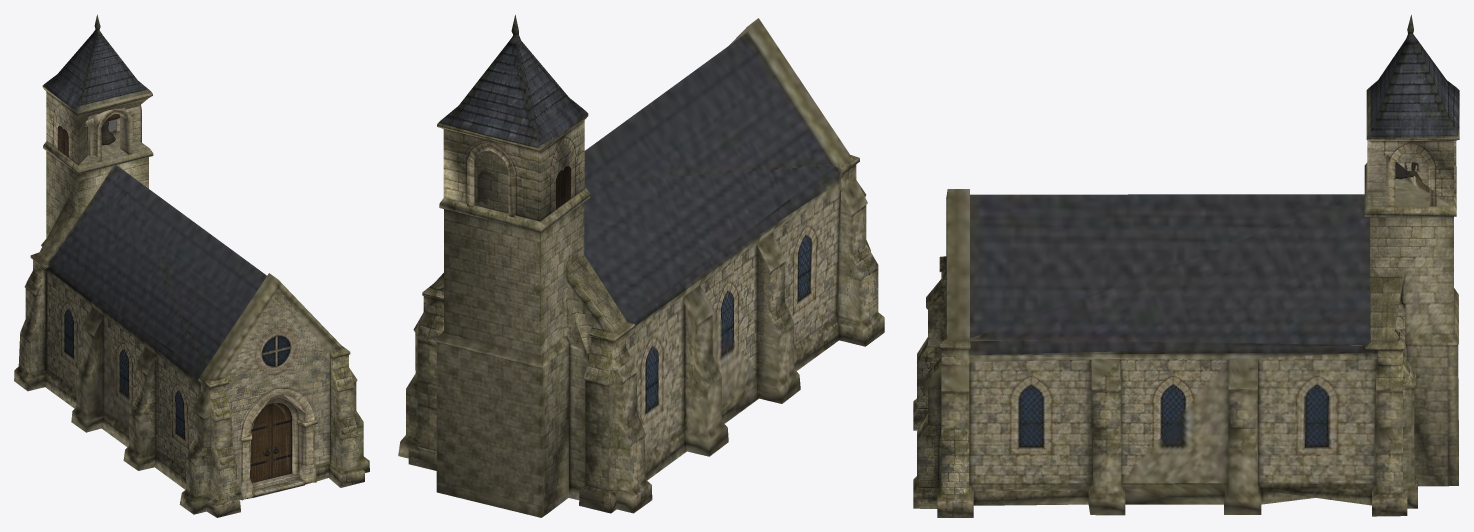
Rendered from building-temple.glb.
3 renders of one model, left to right at view 1: azimuth 30°, elevation 25°; view 2: azimuth 150°, elevation 25°; view 3: azimuth 270°, elevation 25°, orthographic. The views are drawn at different scales.
Parts seen in each view (by area): view 1: turn; view 2: turn; view 3: turn.
Boxes of the visible parts, x1,y1,x2,y2 form: turn: [14, 14, 369, 517]; turn: [398, 15, 884, 517]; turn: [913, 15, 1459, 517].
Size of the model in its own units: 0.4595 by 0.8618 by 0.9531.
1 material, 1 textured.
